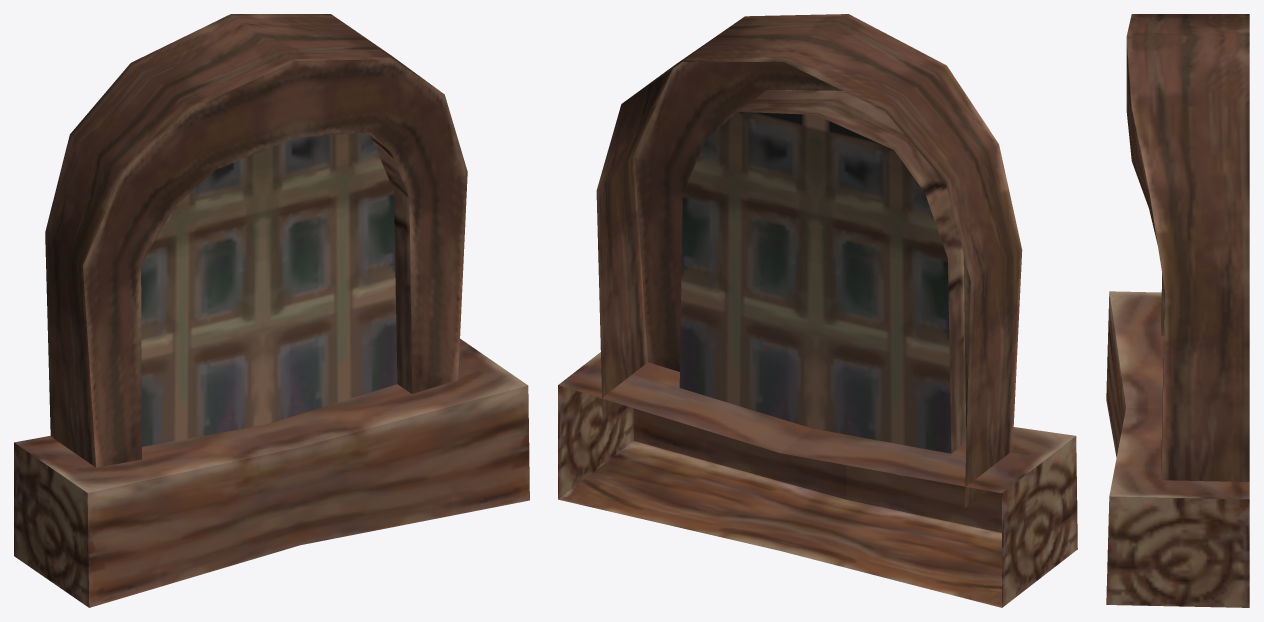
The model's file is window_round_openLOD.fbx.
3 views of the same model, side by side, from view 1: azimuth 30°, elevation 25°; view 2: azimuth 150°, elevation 25°; view 3: azimuth 270°, elevation 25° (orthographic). The views are drawn at different scales.
Visible parts, largest first — view 1: janel_redonda_aberta_LOD0; view 2: janel_redonda_aberta_LOD0; view 3: janel_redonda_aberta_LOD0.
Boxes of the visible parts, bbox=[...] form: janel_redonda_aberta_LOD0: bbox=[14, 14, 529, 607]; janel_redonda_aberta_LOD0: bbox=[558, 14, 1077, 607]; janel_redonda_aberta_LOD0: bbox=[1106, 14, 1249, 607].
Size of what is drawn, in the model's own units: 60.72 by 64.44 by 17.94.
